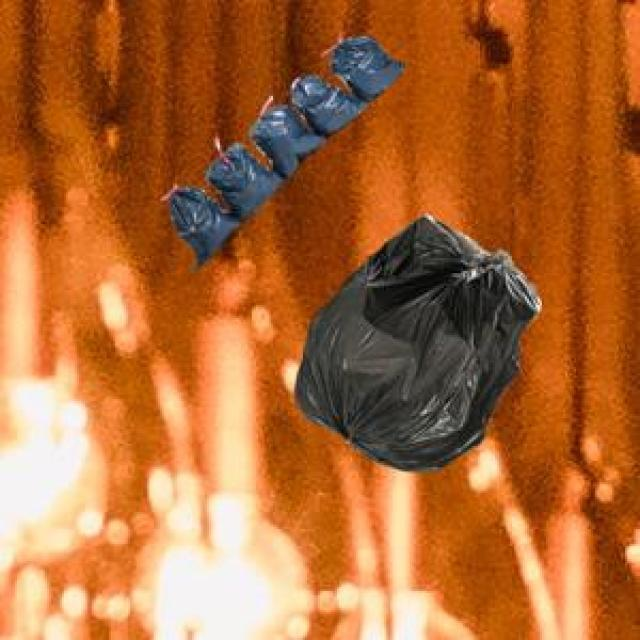miscellaneous trash: (290, 211, 536, 467), (164, 32, 401, 267)
